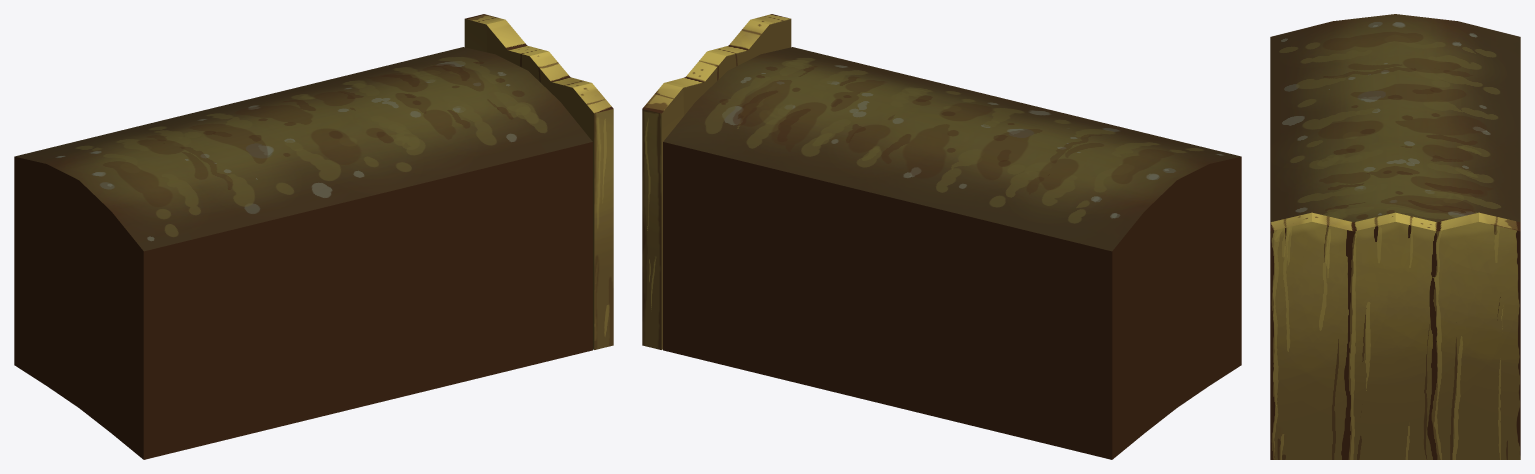
Rendered from canteiro.fbx.
3 renders of one model, left to right at view 1: azimuth 30°, elevation 25°; view 2: azimuth 150°, elevation 25°; view 3: azimuth 270°, elevation 25°, orthographic. The views are drawn at different scales.
Parts seen in each view (by area): view 1: terra, lateral canteiro; view 2: terra, lateral canteiro; view 3: lateral canteiro, terra.
Boxes of the visible parts, left/top/right/bottom form: terra: left=14, top=47, right=592, bottom=459; lateral canteiro: left=464, top=14, right=613, bottom=349; terra: left=663, top=47, right=1241, bottom=459; lateral canteiro: left=642, top=14, right=791, bottom=349; lateral canteiro: left=1270, top=212, right=1520, bottom=459; terra: left=1270, top=14, right=1520, bottom=222.
Bounding box in the file's own units: 193 × 96.56 × 91.99.
Materials: 2 (2 with a texture image).
